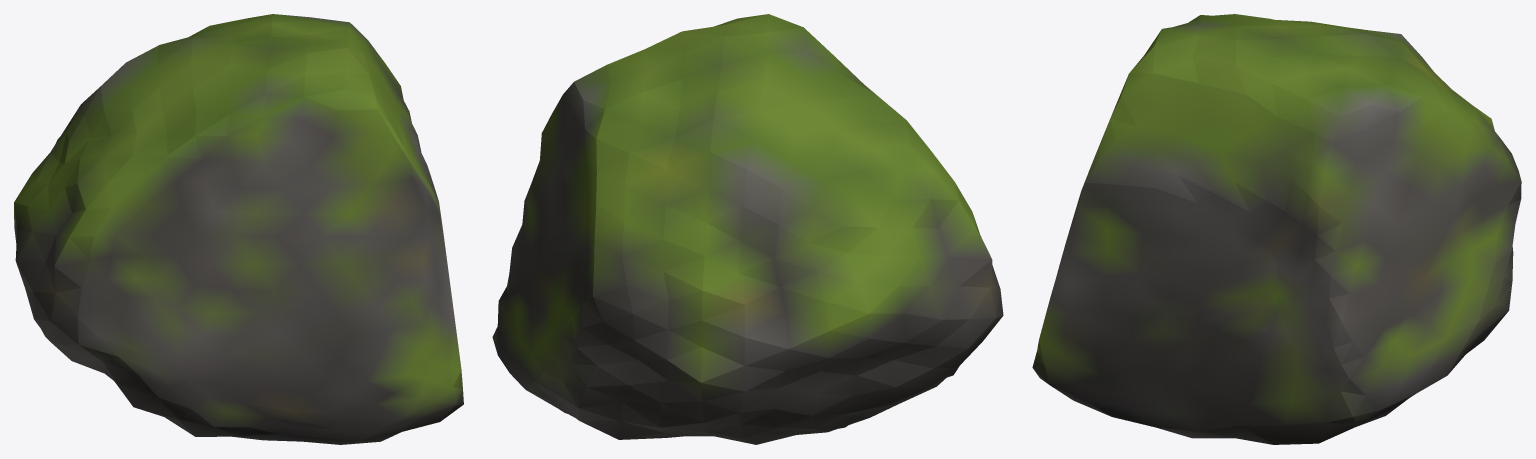
The model's file is boulder-mossy-a.lod0.glb.
3 renders of one model, left to right at view 1: azimuth 30°, elevation 25°; view 2: azimuth 150°, elevation 25°; view 3: azimuth 270°, elevation 25°, orthographic. The views are drawn at different scales.
Bounding box in the file's own units: 2.58 × 1.99 × 2.51.
